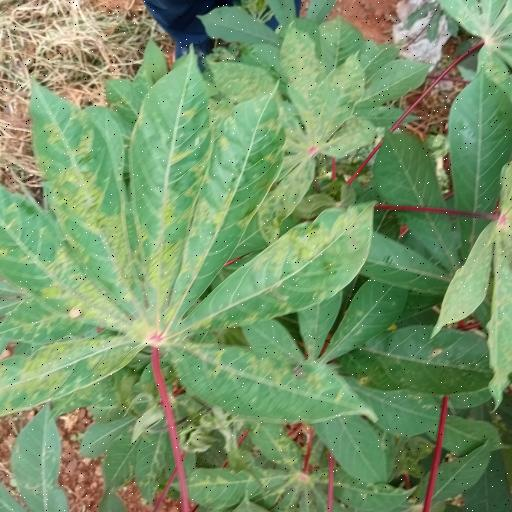Cassava_Healthy: (0, 51, 383, 424), (204, 46, 375, 230)
